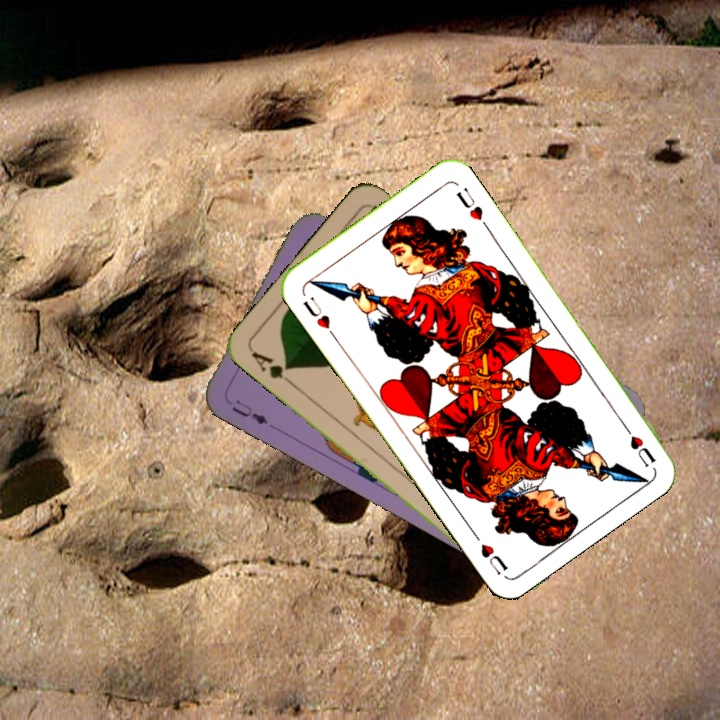EU: (227, 395, 271, 428)
GA: (247, 347, 297, 389)
HU: (617, 418, 658, 470), (299, 292, 338, 340)
